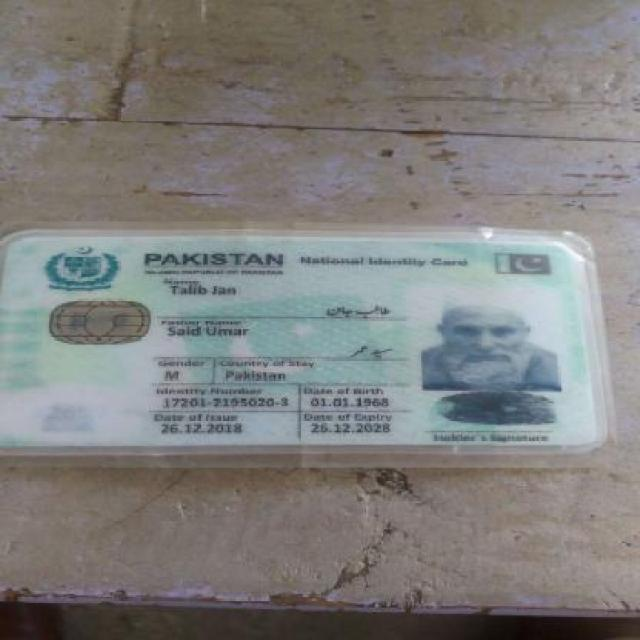Front: (9, 218, 616, 474)
